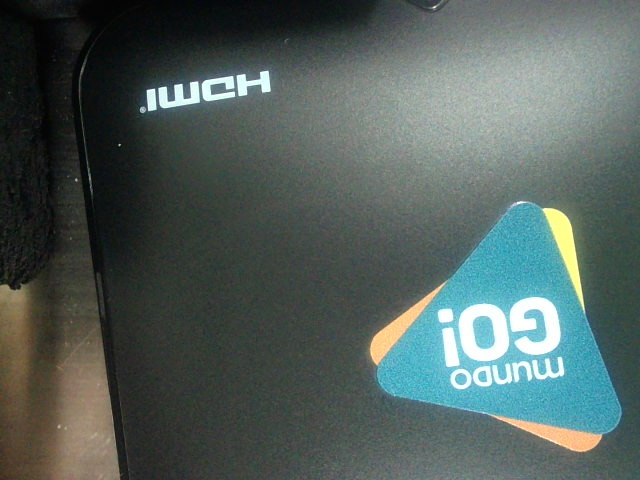AP_IPGMundoGO: (360, 194, 624, 457)
